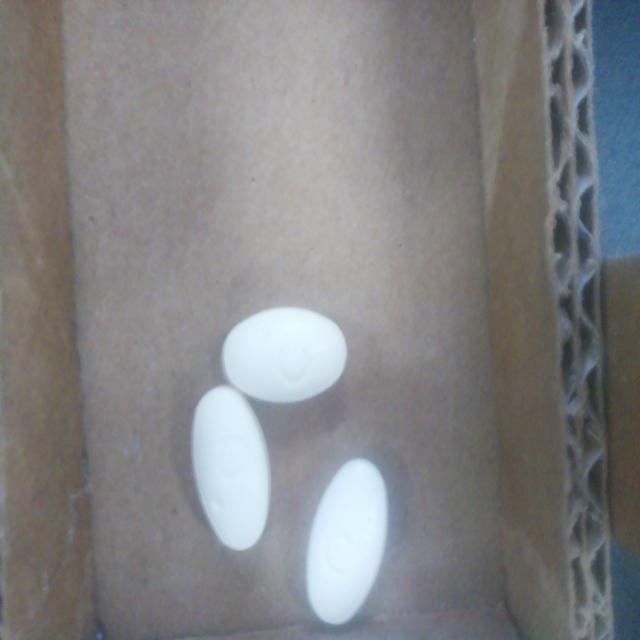pill: (306, 458, 388, 625), (192, 385, 270, 550), (222, 307, 347, 403)
